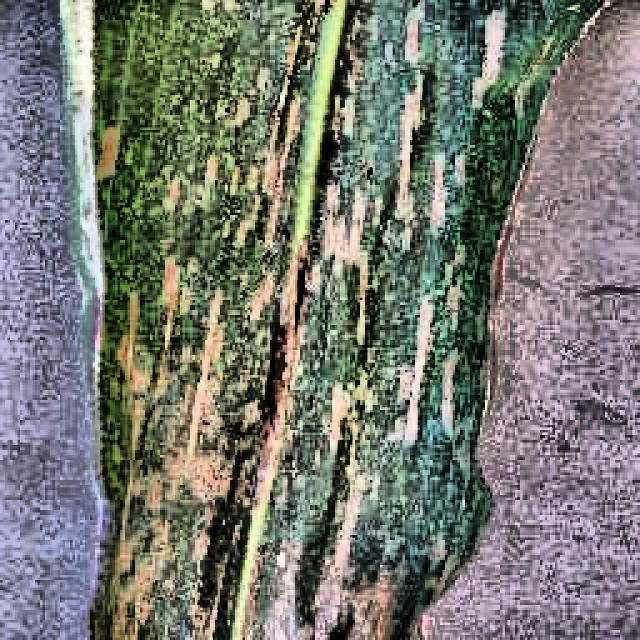gray_spot: (64, 0, 538, 640)
